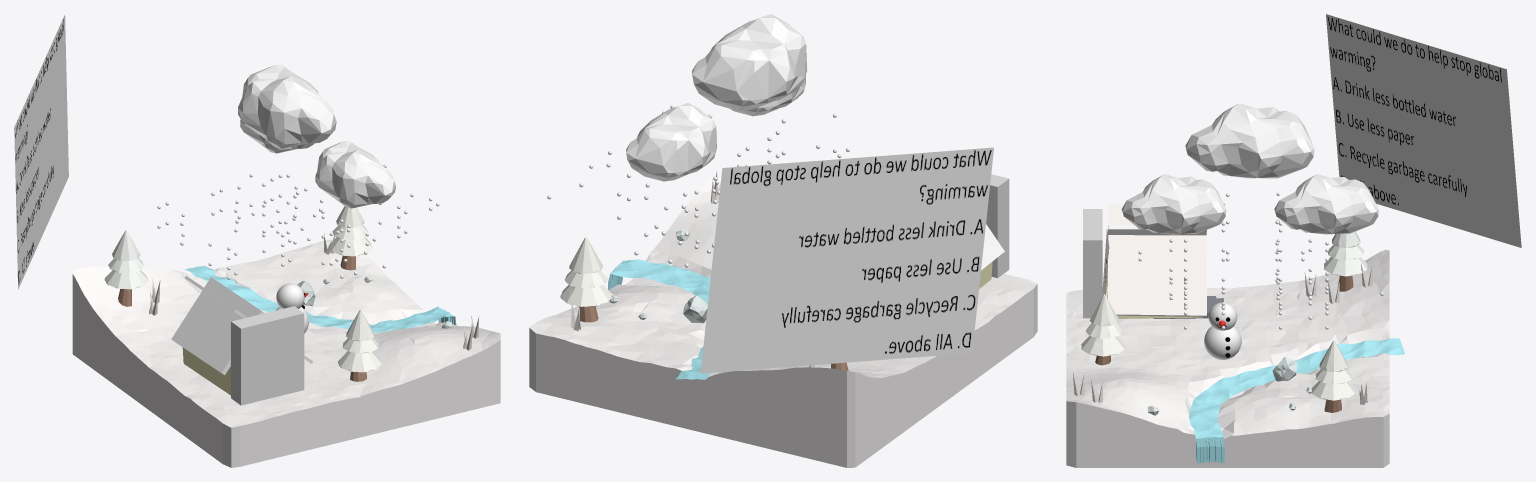
The model's file is snowQ7.glb.
The picture shows the model from 3 angles, left to right: view 1: azimuth 30°, elevation 25°; view 2: azimuth 150°, elevation 25°; view 3: azimuth 270°, elevation 25°; orthographic projection. The views are drawn at different scales.
Visible parts, largest first — view 1: terrain, pPlane2, Cube, cloud, house:pCube6, pPlatonic1, water, house:pCube4, pCylinder1, trees:pCylinder8, trees:pCylinder1, pSphere117 (+3 smaller); view 2: pPlane2, terrain, cloud, clouds:pPlatonic1, water, Cube, trees:pCylinder1, trees:pCylinder4, pPlatonic1, trees:pCylinder3, house:pCube6, stone:pPlatonic2; view 3: terrain, pPlane2, house:pCube5, cloud, pPlatonic1, clouds:pPlatonic1, water, Cube, pSphere116, pCylinder1, trees:pCylinder1, trees:pCylinder8 (+4 smaller).
Boxes of the visible parts, left/top/right/bottom form: terrain: left=72, top=239, right=500, bottom=467; pPlane2: left=14, top=15, right=68, bottom=289; Cube: left=231, top=306, right=304, bottom=405; cloud: left=238, top=64, right=336, bottom=148; house:pCube6: left=171, top=277, right=264, bottom=374; pPlatonic1: left=315, top=141, right=395, bottom=208; water: left=184, top=265, right=456, bottom=332; house:pCube4: left=182, top=347, right=230, bottom=394; pCylinder1: left=338, top=351, right=381, bottom=372; trees:pCylinder8: left=104, top=270, right=148, bottom=289; trees:pCylinder1: left=328, top=237, right=372, bottom=256; pSphere117: left=276, top=283, right=304, bottom=308; pPlane2: left=700, top=147, right=993, bottom=373; terrain: left=529, top=178, right=1037, bottom=467; cloud: left=692, top=14, right=807, bottom=110; clouds:pPlatonic1: left=626, top=103, right=716, bottom=181; water: left=608, top=259, right=712, bottom=379; Cube: left=987, top=174, right=1009, bottom=278; trees:pCylinder1: left=560, top=284, right=612, bottom=306; trees:pCylinder4: left=569, top=237, right=602, bottom=274; pPlatonic1: left=730, top=75, right=805, bottom=116; trees:pCylinder3: left=564, top=270, right=607, bottom=288; house:pCube6: left=981, top=224, right=1004, bottom=270; stone:pPlatonic2: left=683, top=295, right=707, bottom=323; terrain: left=1066, top=249, right=1389, bottom=467; pPlane2: left=1326, top=14, right=1521, bottom=247; house:pCube5: left=1108, top=204, right=1207, bottom=316; cloud: left=1185, top=103, right=1314, bottom=178; pPlatonic1: left=1121, top=174, right=1226, bottom=234; clouds:pPlatonic1: left=1274, top=174, right=1378, bottom=234; water: left=1189, top=338, right=1404, bottom=463; Cube: left=1083, top=209, right=1102, bottom=318; pSphere116: left=1204, top=326, right=1241, bottom=359; pCylinder1: left=1081, top=336, right=1124, bottom=356; trees:pCylinder1: left=1311, top=381, right=1355, bottom=400; trees:pCylinder8: left=1324, top=257, right=1367, bottom=276.
Bounding box in the file's own units: 0.4613 × 0.3485 × 0.4738.
28 materials, 2 textured.
